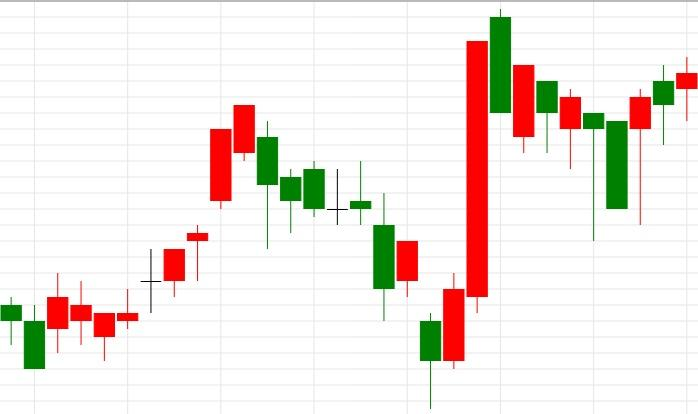hammer_rise: (489, 9, 605, 241)
